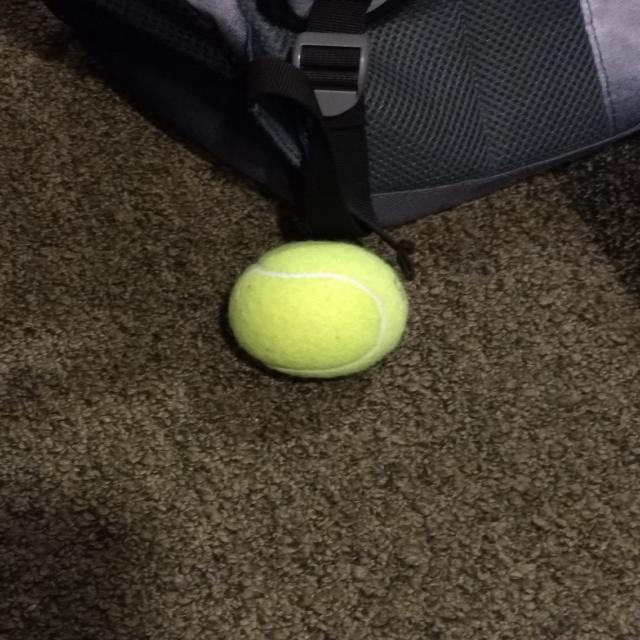Tennis-Ball: (230, 240, 410, 381)
